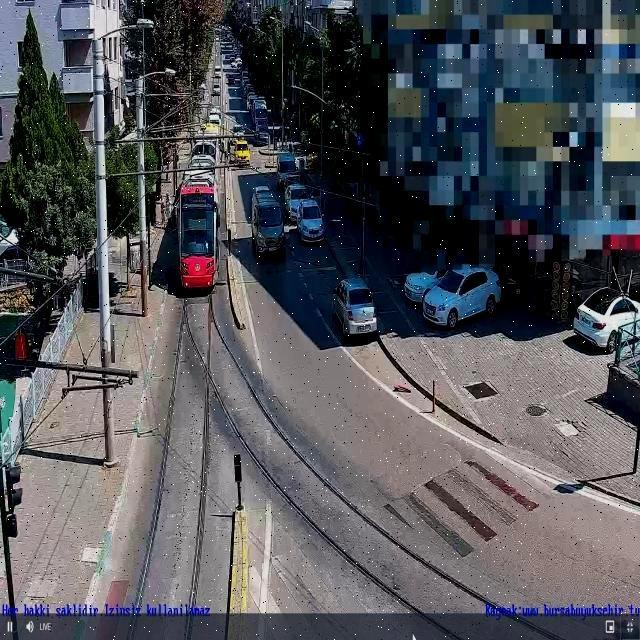Bus: (175, 174, 221, 293)
Car: (422, 264, 502, 328), (572, 288, 638, 352), (331, 268, 380, 342), (250, 187, 286, 257), (294, 200, 324, 242), (283, 182, 314, 222), (275, 153, 301, 190), (189, 140, 218, 172), (255, 131, 270, 146), (208, 110, 221, 126), (232, 124, 245, 137)
